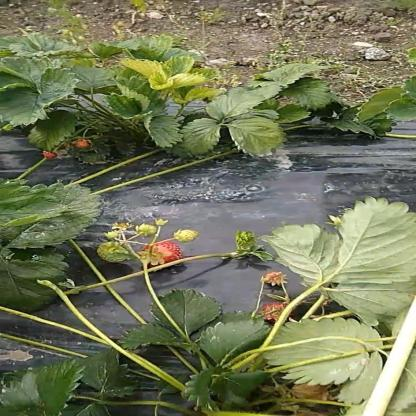ripe: (140, 239, 185, 264), (39, 150, 63, 161)
unripe: (98, 240, 140, 264), (169, 224, 197, 244), (133, 222, 157, 236), (74, 138, 94, 149)
